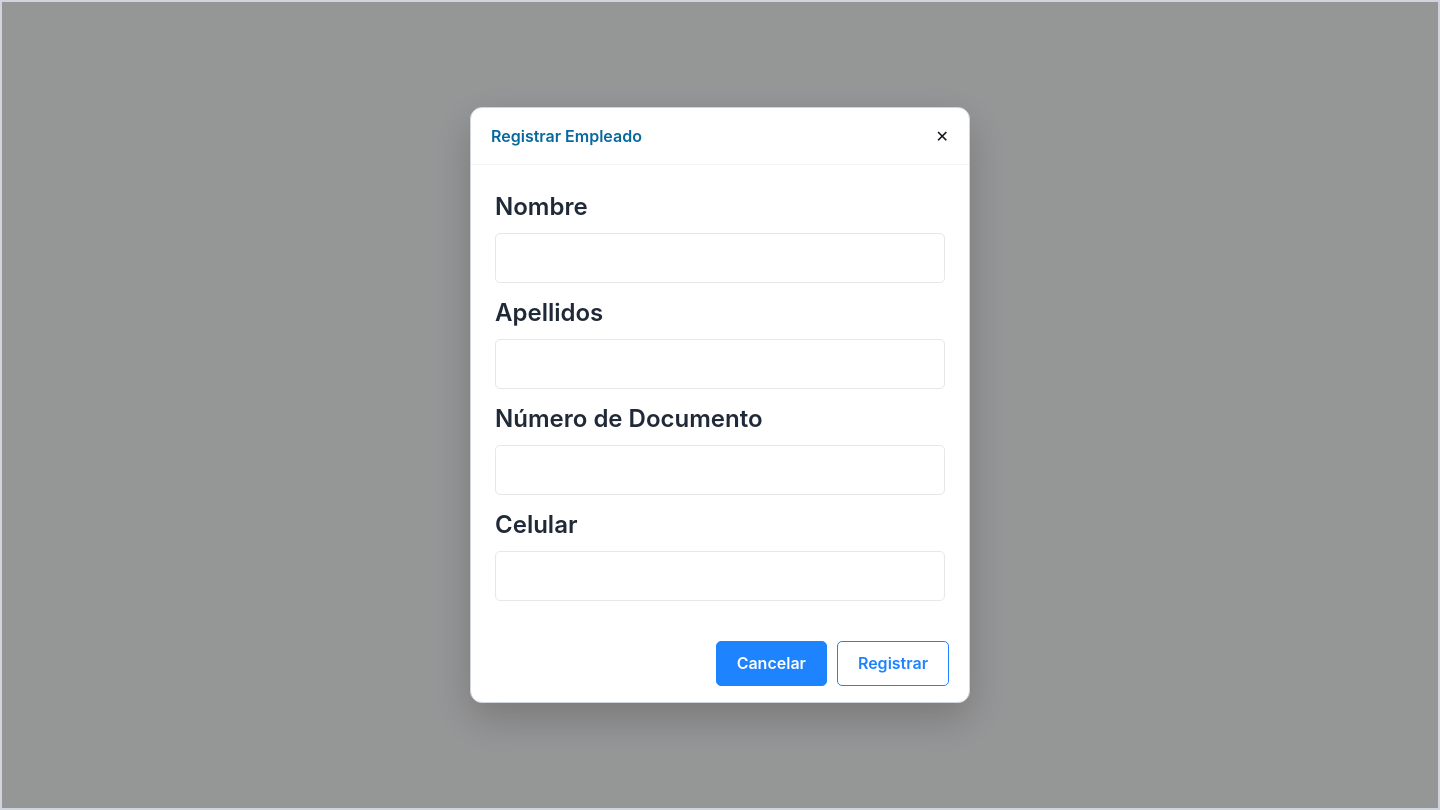
Test: Regresión: Componente RegistrarEmpleados › CP-1.5: Debe mostrar el mensaje de error cuando la mutación falla (Caja Blanca)
This screenshot has width=1440, height=810.
Step 1. Type "Juan Alberto" into the field labelled "Nombre" → (720, 258), box [495,233,945,283]
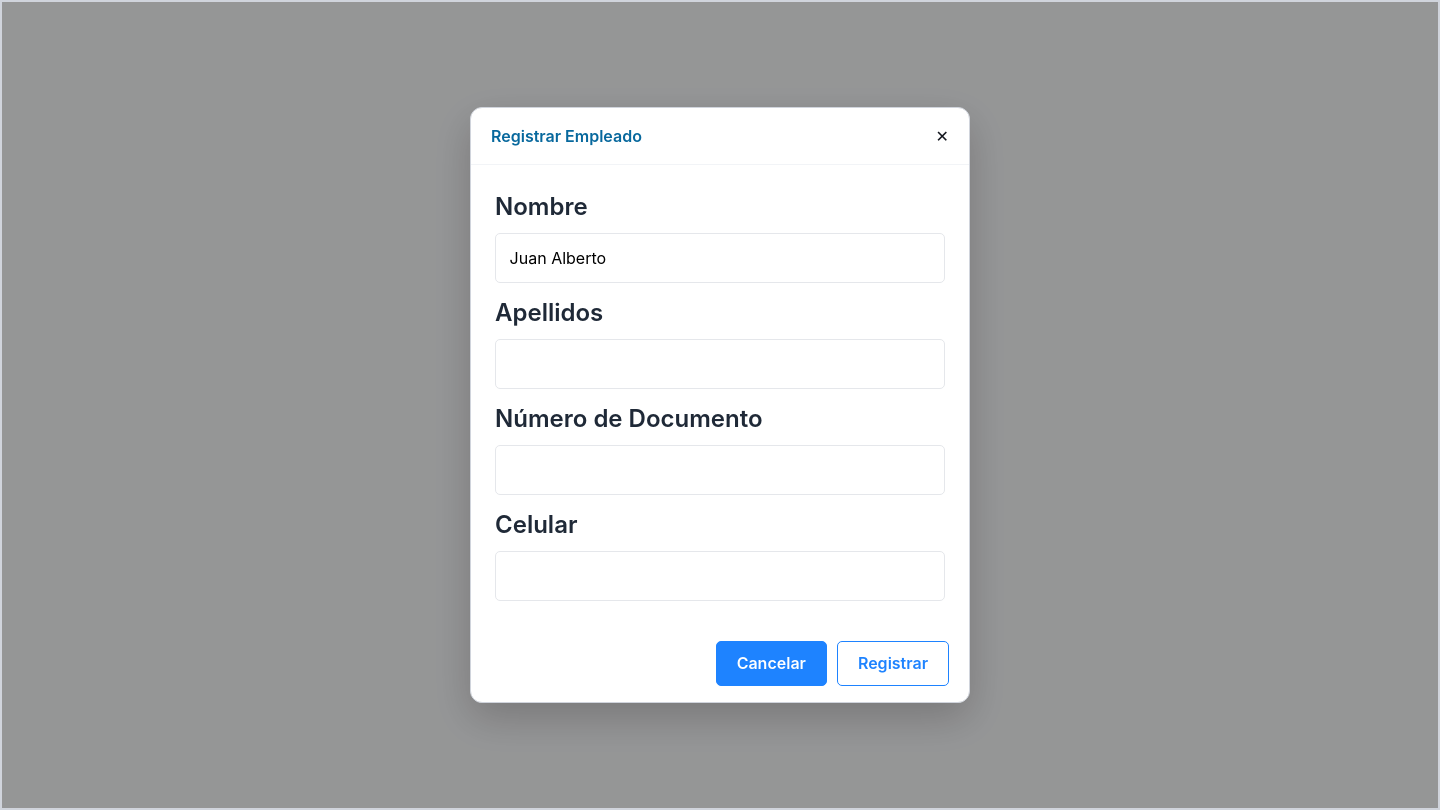
Step 2. Type "Rincon Garcia" into the field labelled "Apellidos" → (720, 364), box [495,339,945,389]
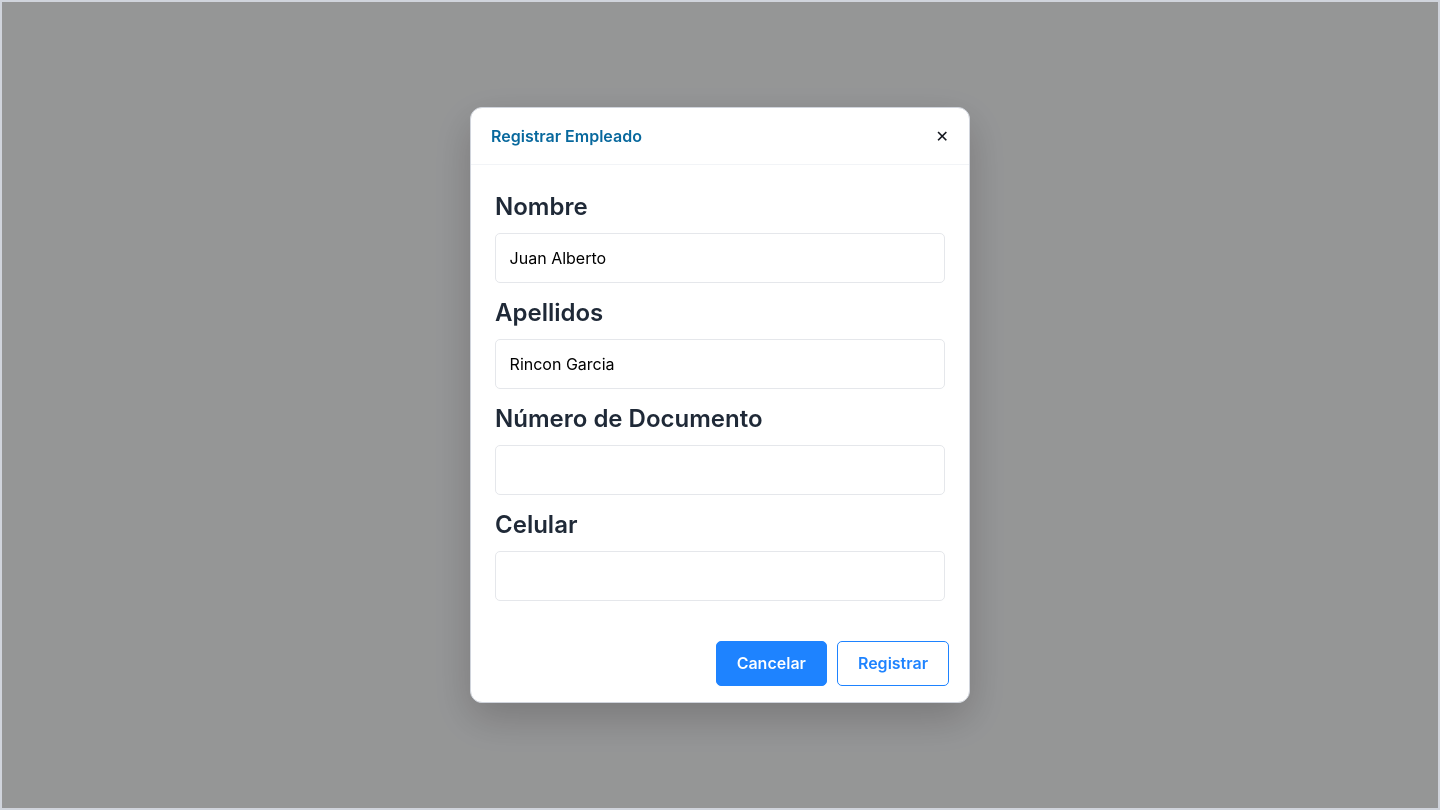
Step 3. Type "1000234567" into the field labelled "Número de Documento" → (720, 470), box [495,445,945,495]
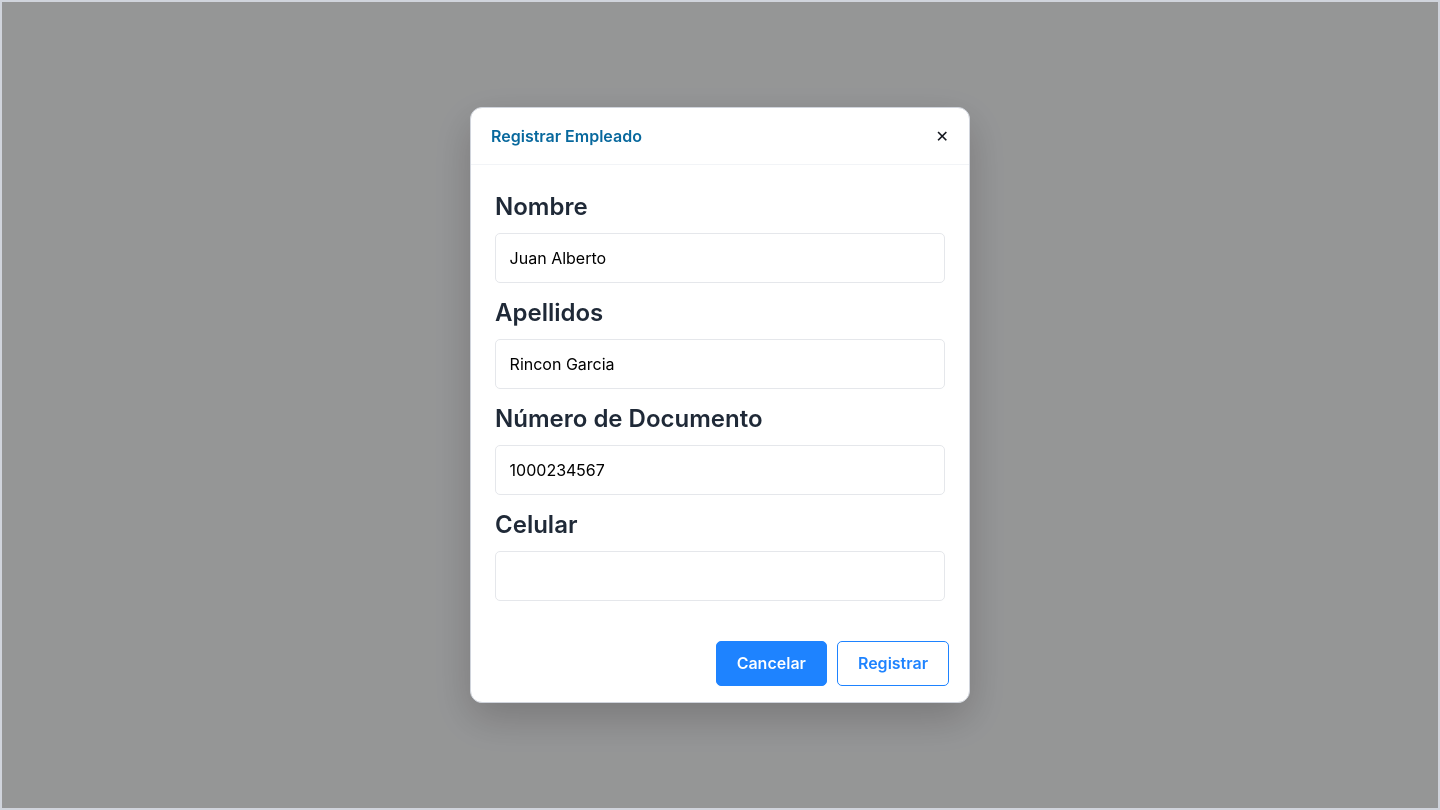
Step 4. Type "3004567890" into the field labelled "Celular" → (720, 576), box [495,551,945,601]
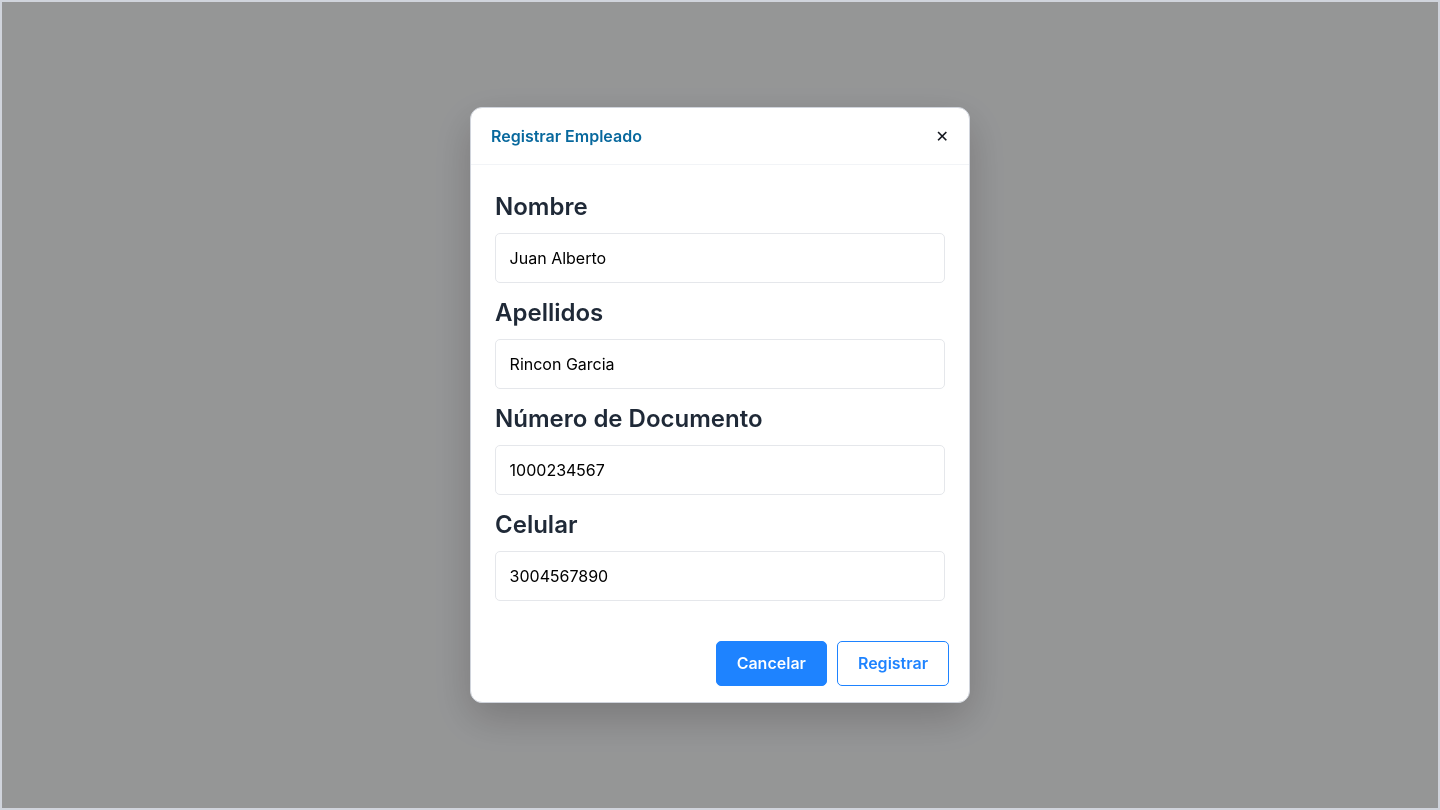
Step 5. Click the button "Registrar" → (893, 664), box [837,641,949,686]
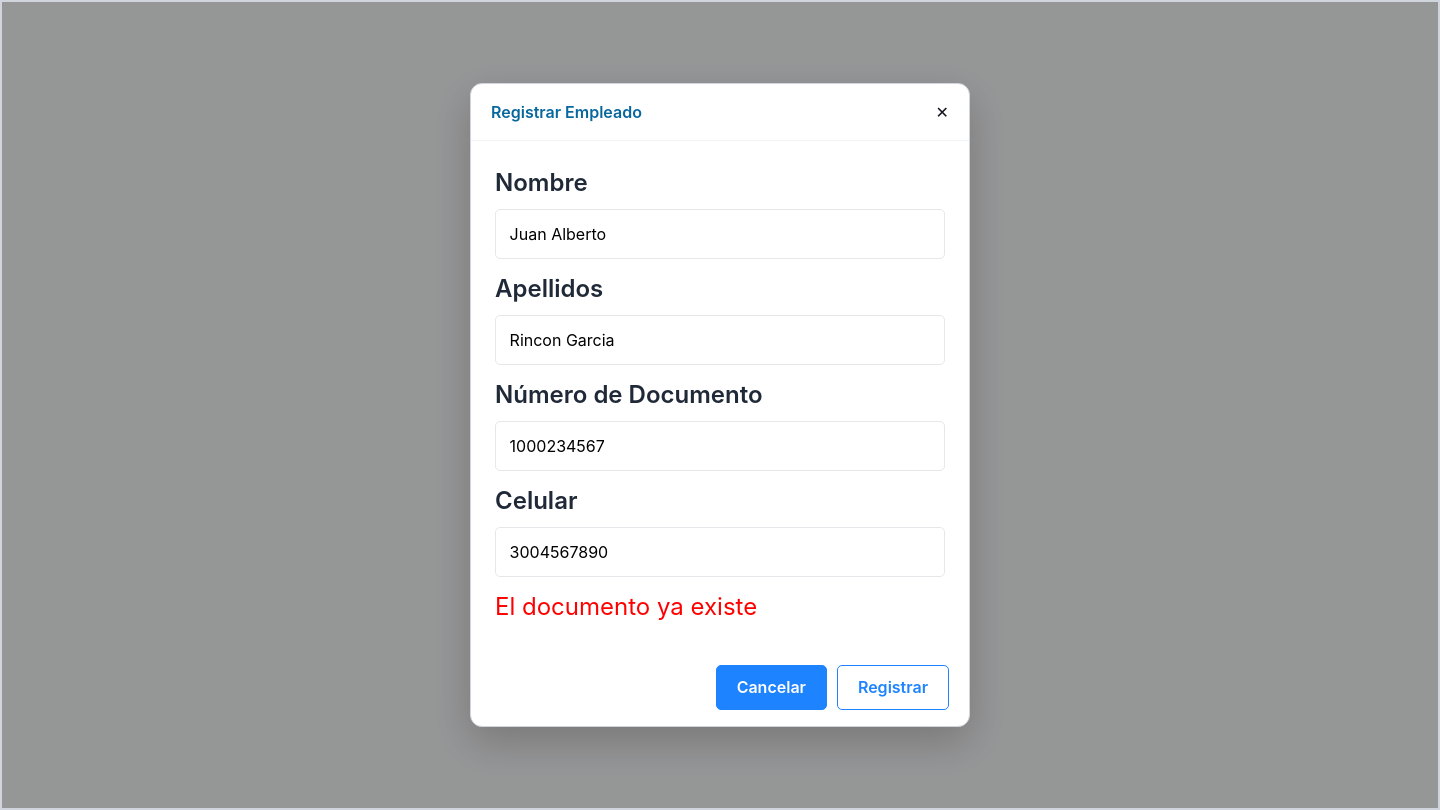
Expected: the text "El documento ya existe" is shown, [495,592,757,621]
